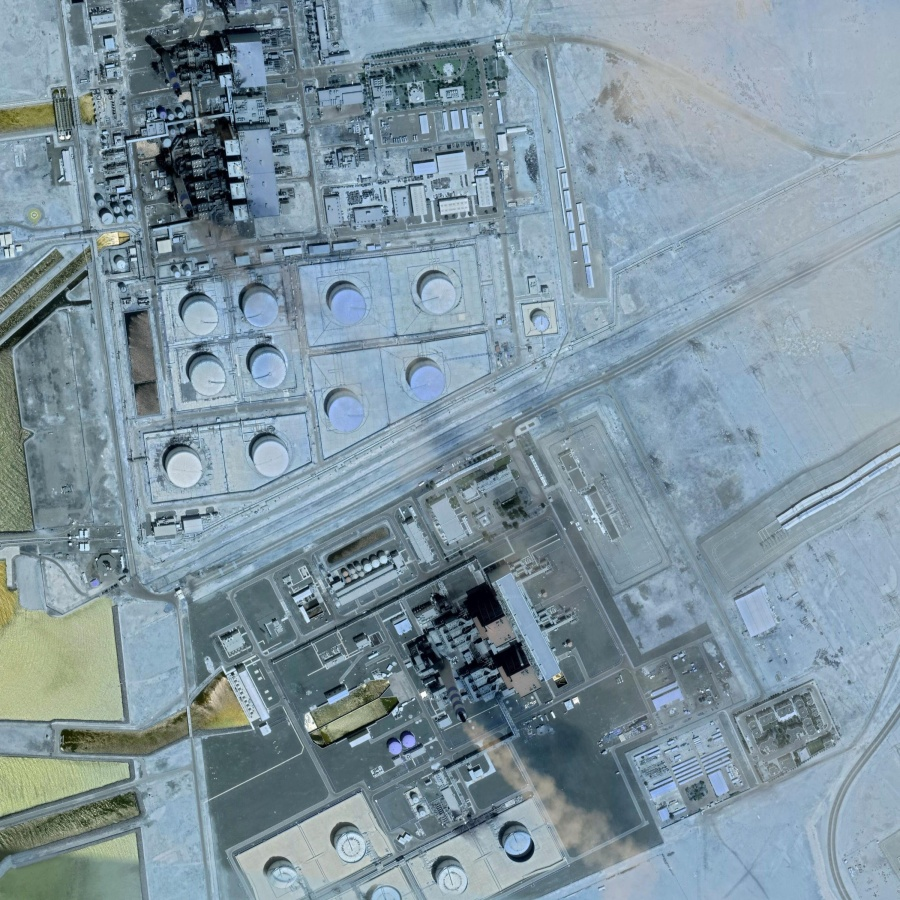PowerPlant: (112, 246, 492, 509)
